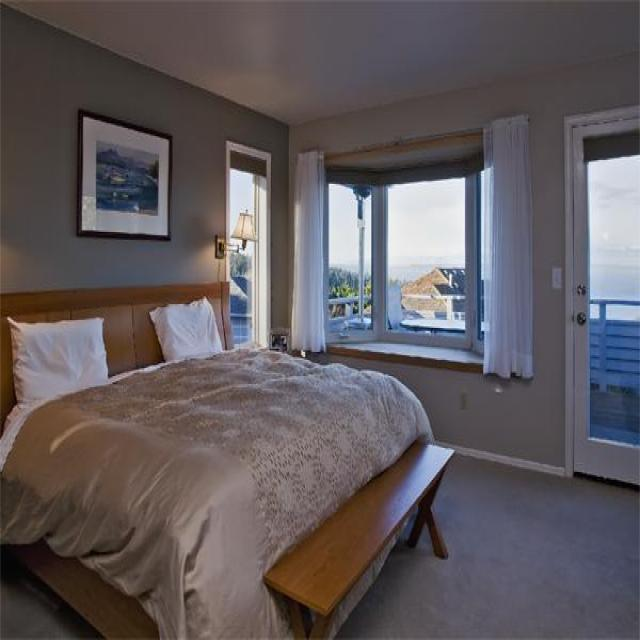bed: (0, 282, 435, 638)
curtains: (481, 112, 533, 379), (290, 147, 328, 354)
door: (565, 106, 639, 487)
lamps: (214, 208, 257, 259)
pillows: (6, 314, 109, 408), (147, 294, 222, 364)
stairs: (262, 437, 456, 638)
windows: (225, 139, 271, 349)
